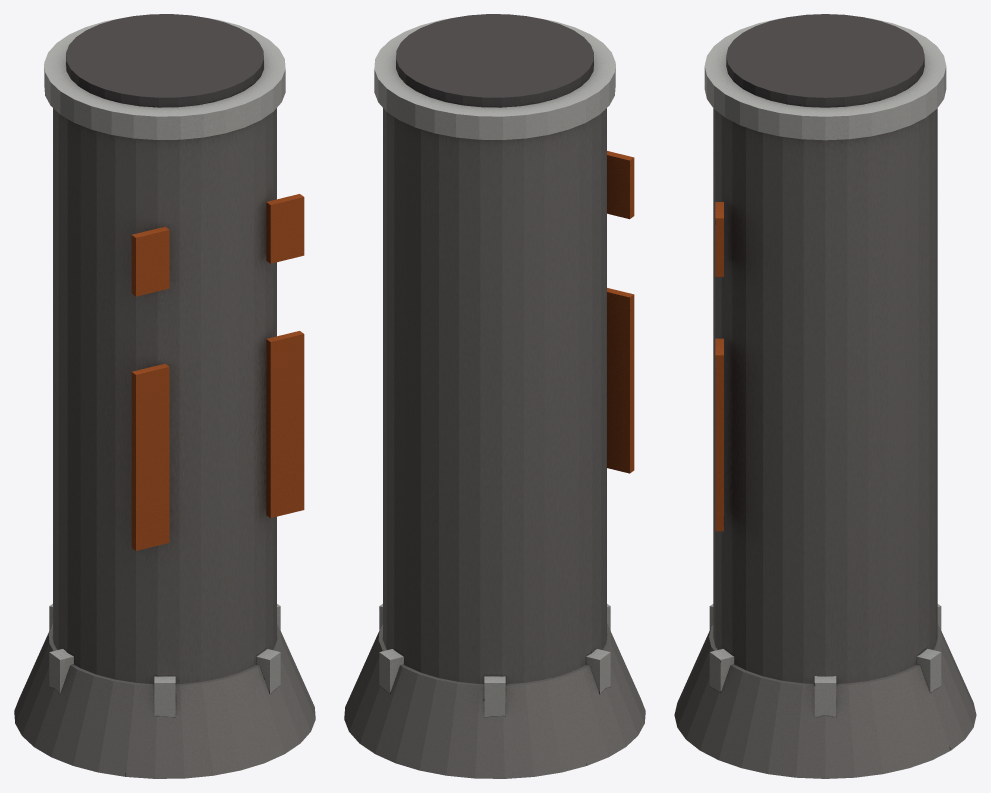
Rendered from cooling_tower_script.glb.
3 renders of one model, left to right at view 1: azimuth 30°, elevation 25°; view 2: azimuth 150°, elevation 25°; view 3: azimuth 270°, elevation 25°, orthographic.
Visible parts, largest first — view 1: Cone; view 2: Cone; view 3: Cone.
Boxes of the visible parts, left/top/right/bottom form: Cone: left=14, top=14, right=315, bottom=778; Cone: left=344, top=14, right=645, bottom=778; Cone: left=674, top=14, right=976, bottom=778.
Bounding box in the file's own units: 14 × 33.7 × 14.
Materials: 1 (1 with a texture image).
